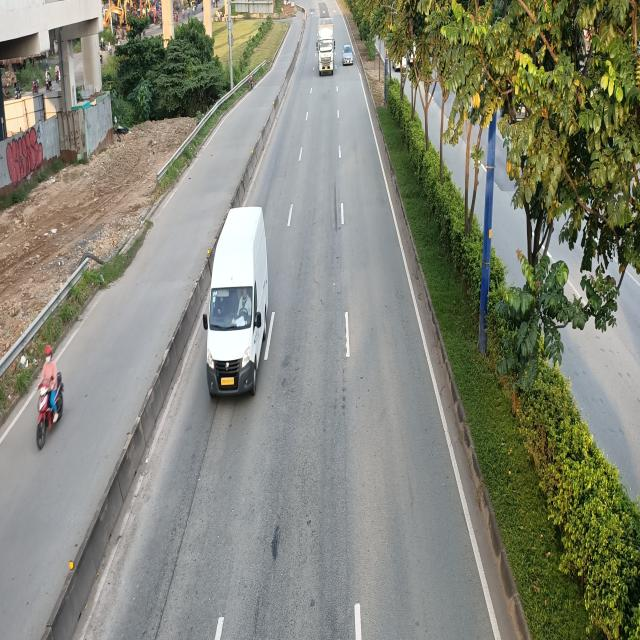car: (343, 43, 355, 65)
truck: (316, 20, 336, 76)
van: (202, 208, 272, 393)
